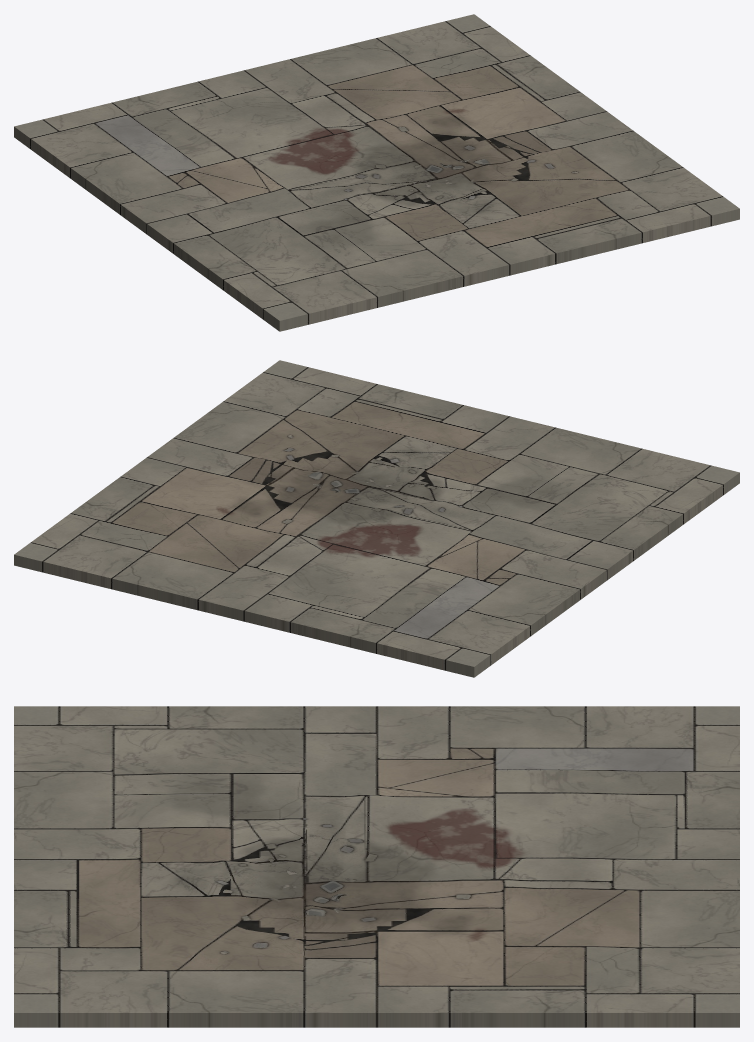
Rendered from cathedral_floor_b.glb.
3 renders of one model, top to bottom at view 1: azimuth 30°, elevation 25°; view 2: azimuth 150°, elevation 25°; view 3: azimuth 270°, elevation 25°, orthographic. The views are drawn at different scales.
Visible parts, largest first — view 1: cathedral_floor_b; view 2: cathedral_floor_b; view 3: cathedral_floor_b.
Boxes of the visible parts, x1,y1,x2,y2 form: cathedral_floor_b: [14, 14, 739, 331]; cathedral_floor_b: [14, 360, 739, 677]; cathedral_floor_b: [14, 706, 739, 1027].
Size of the model in its own units: 4 by 0.1215 by 4.
Materials: 1 (1 with a texture image).
